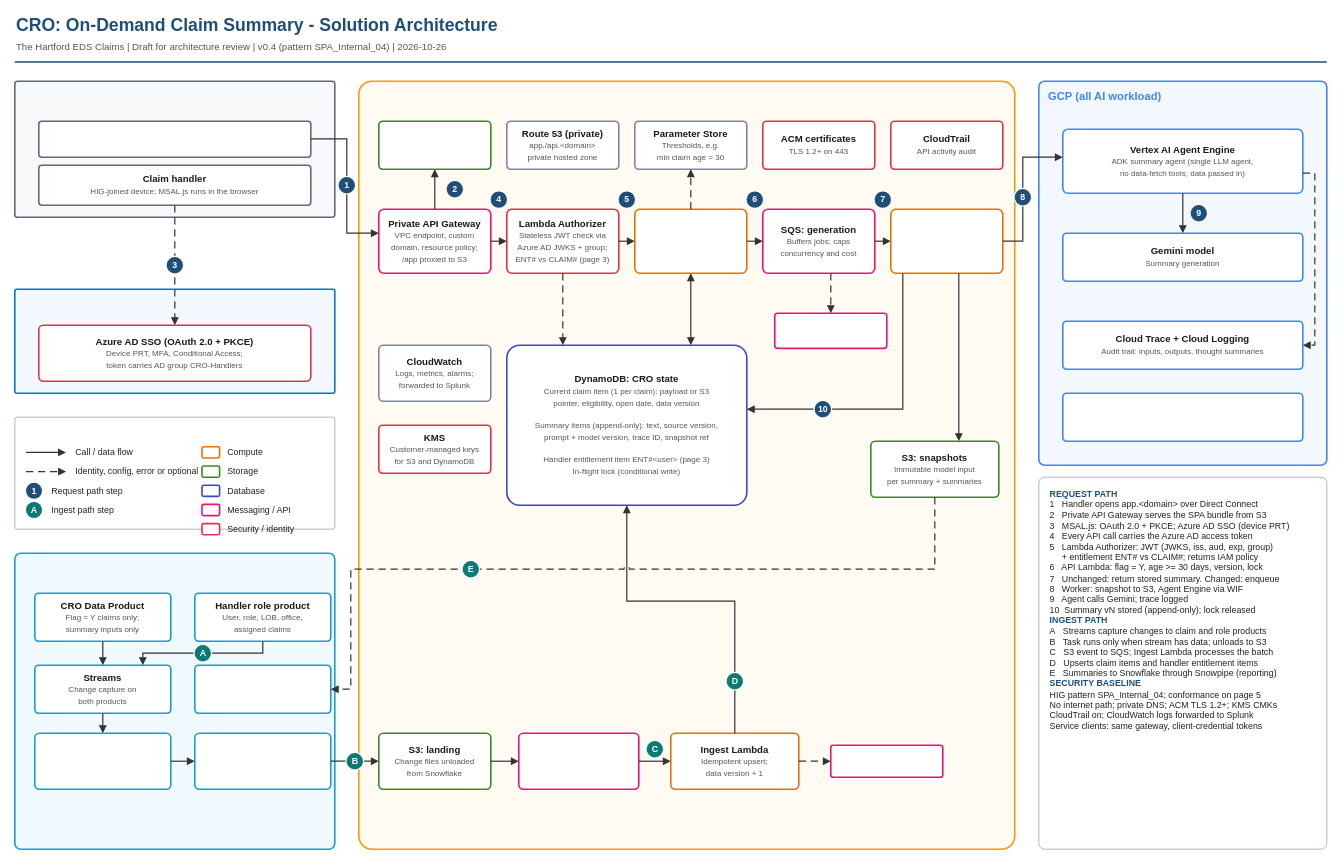
Image size: 1341x863. Some labels were removed from this diagram. The shapes that lost their labels are listed below. From the top down, each one's box as (x1, y1, x2, y2) in pixels, then its label:
(38, 120, 311, 158): AWS Direct Connect Private path to AWS; no internet routing
(14, 80, 335, 218): HIG network (on premises)
(378, 120, 491, 170): S3: UI bundle Static SPA assets; no proprietary content
(634, 208, 747, 274): API Lambda Runs only on Allow; eligibility, 30-day rule, version, lock
(890, 208, 1003, 274): Worker Lambda Snapshot, invoke agent, store summary
(14, 288, 335, 394): Microsoft Entra ID (Azure AD)
(774, 312, 887, 349): DLQ: generation
(1062, 392, 1303, 442): Workload Identity Federation Keyless: AWS IAM role to GCP service account
(14, 416, 335, 529): LEGEND
(358, 80, 1015, 850): AWS (LOB CloudOps account, us-east-1)
(14, 552, 335, 850): Snowflake
(194, 664, 331, 714): Summary table Writeback for reporting and audit queries
(34, 732, 171, 790): Task Runs only when stream has data; no business rules
(194, 732, 331, 790): Outbox table Consumes stream; COPY INTO S3 stage
(518, 732, 639, 790): SQS: ingest S3 event notifications
(830, 744, 943, 778): DLQ: ingest
